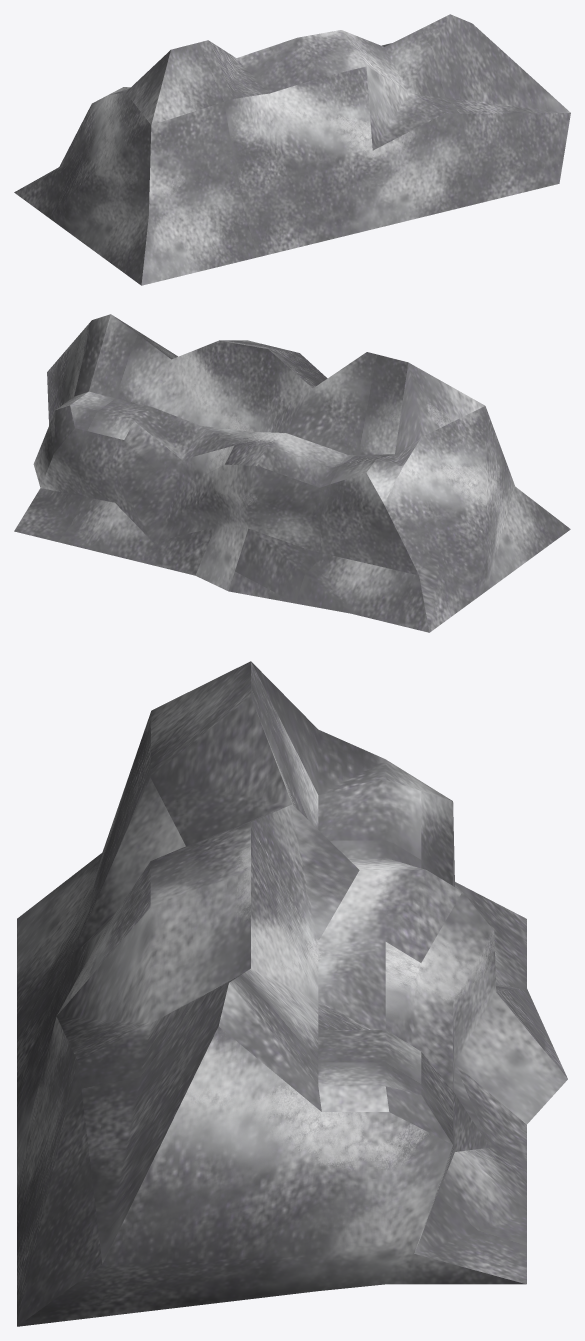
The model's file is MountainR3.FBX.
3 views of the same model, one above another, from view 1: azimuth 30°, elevation 25°; view 2: azimuth 150°, elevation 25°; view 3: azimuth 270°, elevation 25° (orthographic). The views are drawn at different scales.
Visible parts, largest first — view 1: MountainR3; view 2: MountainR3; view 3: MountainR3.
Boxes of the visible parts, left/top/right/bottom form: MountainR3: left=14, top=14, right=570, bottom=285; MountainR3: left=14, top=314, right=570, bottom=632; MountainR3: left=17, top=661, right=567, bottom=1326.
Bounding box in the file's own units: 206 × 75.18 × 109.
1 material, 1 textured.
